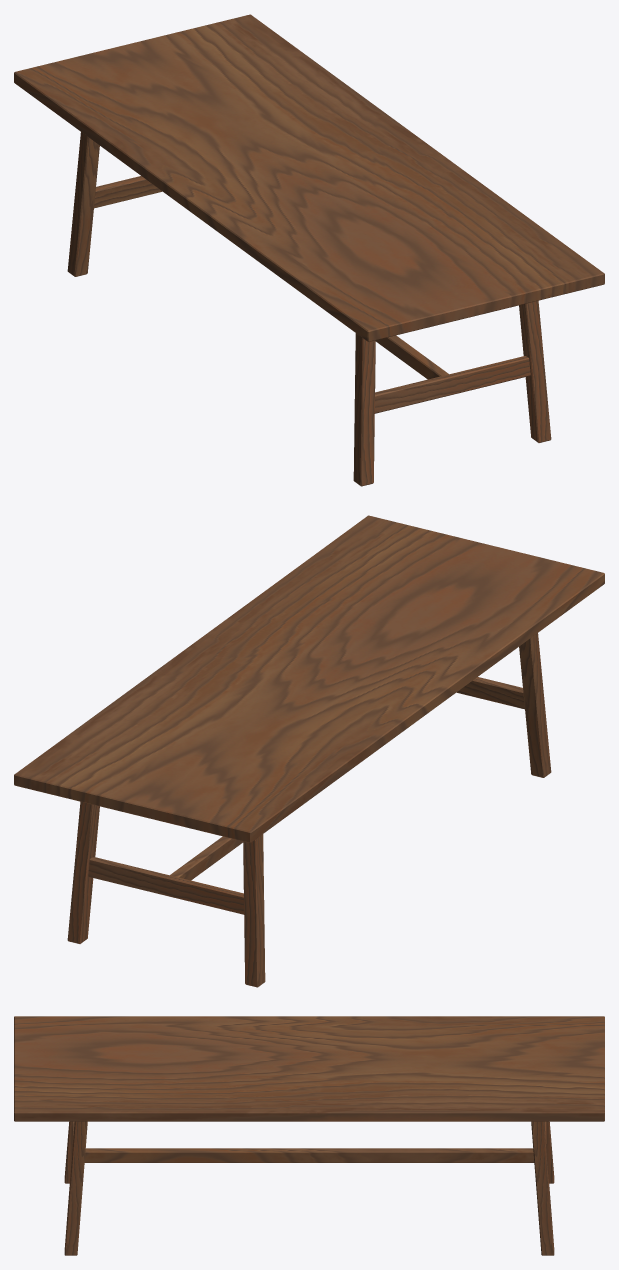
File: Table2.glb
The picture shows the model from 3 angles, top to bottom: view 1: azimuth 30°, elevation 25°; view 2: azimuth 150°, elevation 25°; view 3: azimuth 270°, elevation 25°; orthographic projection. The views are drawn at different scales.
Parts seen in each view (by area): view 1: Cube.033; view 2: Cube.033; view 3: Cube.033.
Part boxes in pixels (box(x1,y1,x2,y2)): Cube.033: box(14, 14, 604, 486); Cube.033: box(14, 515, 604, 987); Cube.033: box(14, 1016, 604, 1255).
Size of the model in its own units: 1.04 by 0.7667 by 2.68.
Materials: 1 (1 with a texture image).
